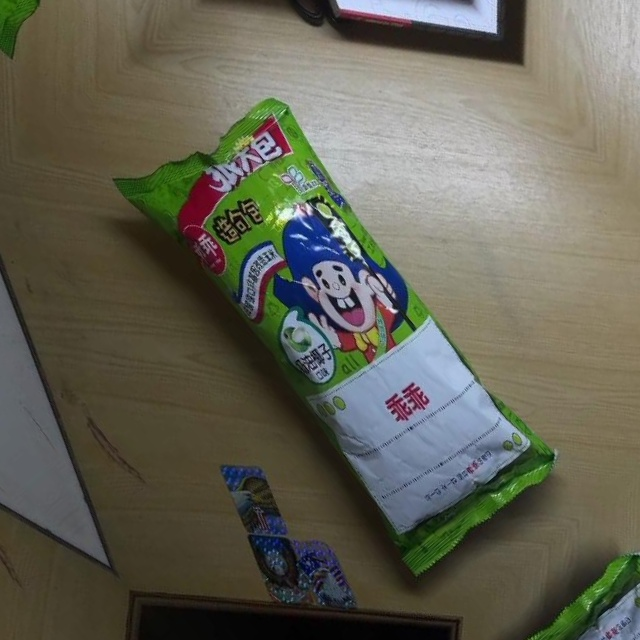Good-Luck: (94, 61, 577, 581)
